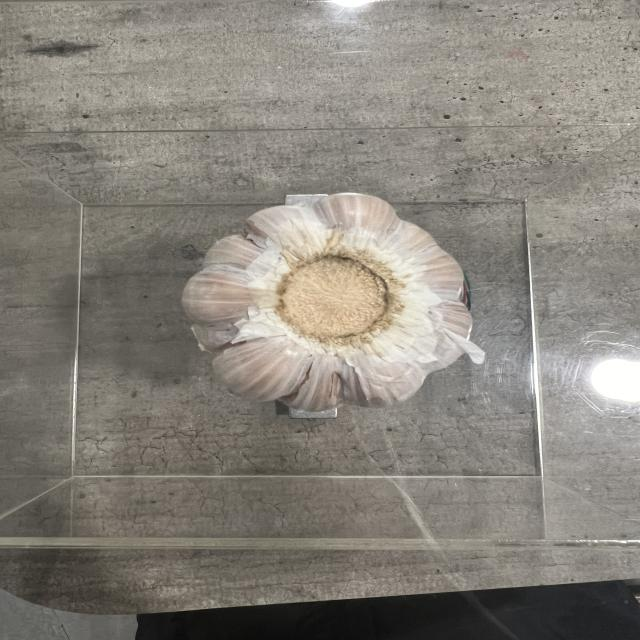garlic: (182, 192, 464, 410)
